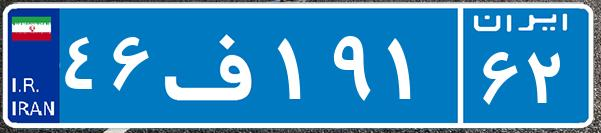1: (385, 28, 445, 110), (273, 28, 330, 110)
2: (525, 38, 570, 115)
4: (57, 26, 110, 107)
6: (475, 38, 525, 113), (110, 28, 158, 105)
9: (330, 28, 385, 110)
ف: (158, 15, 273, 115)
